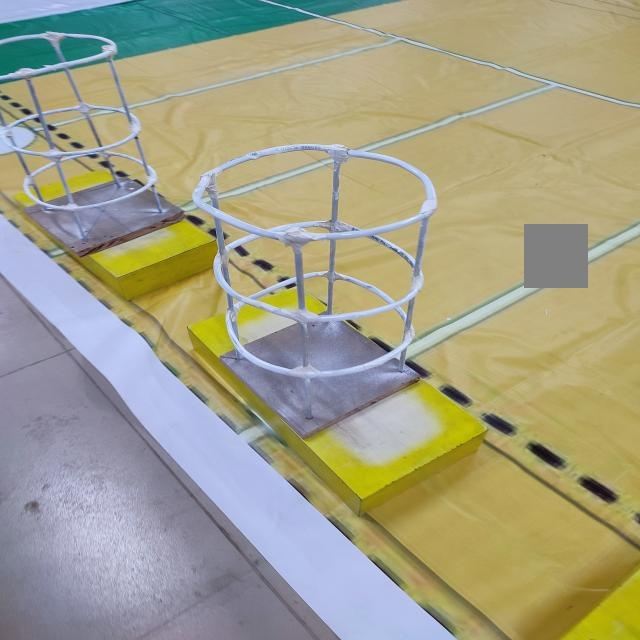silo: (169, 130, 459, 424), (0, 18, 184, 263)
